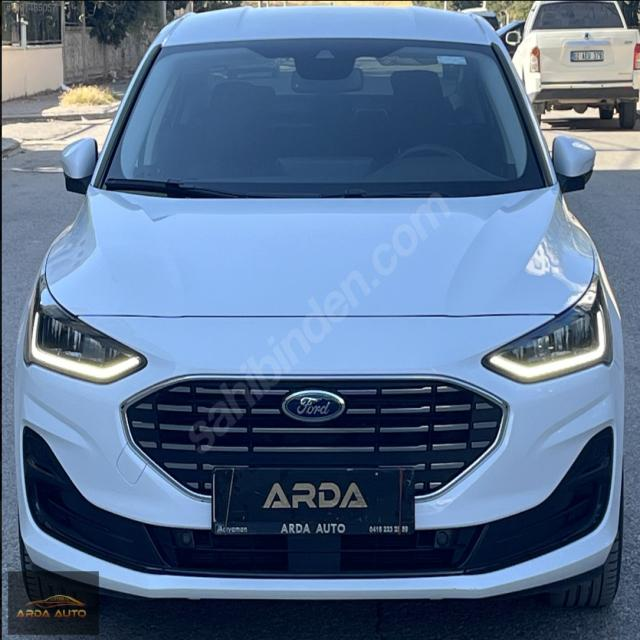ford: (280, 383, 348, 427)
